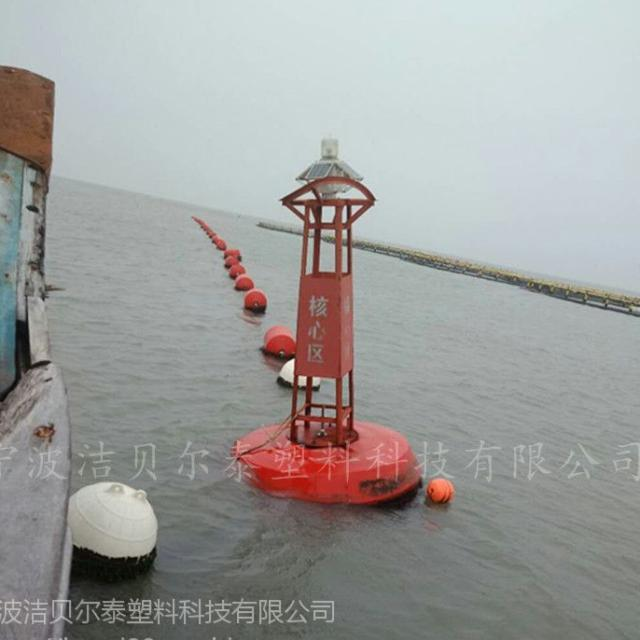buoy: (237, 136, 419, 502)
